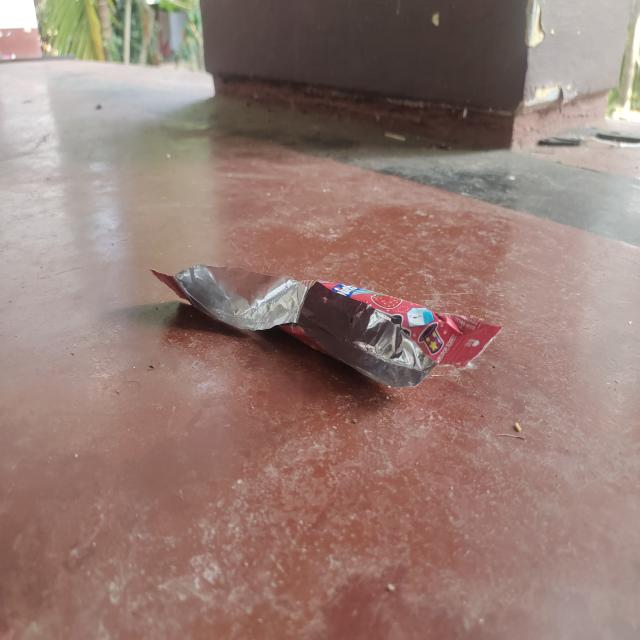plastic: (145, 259, 508, 391)
